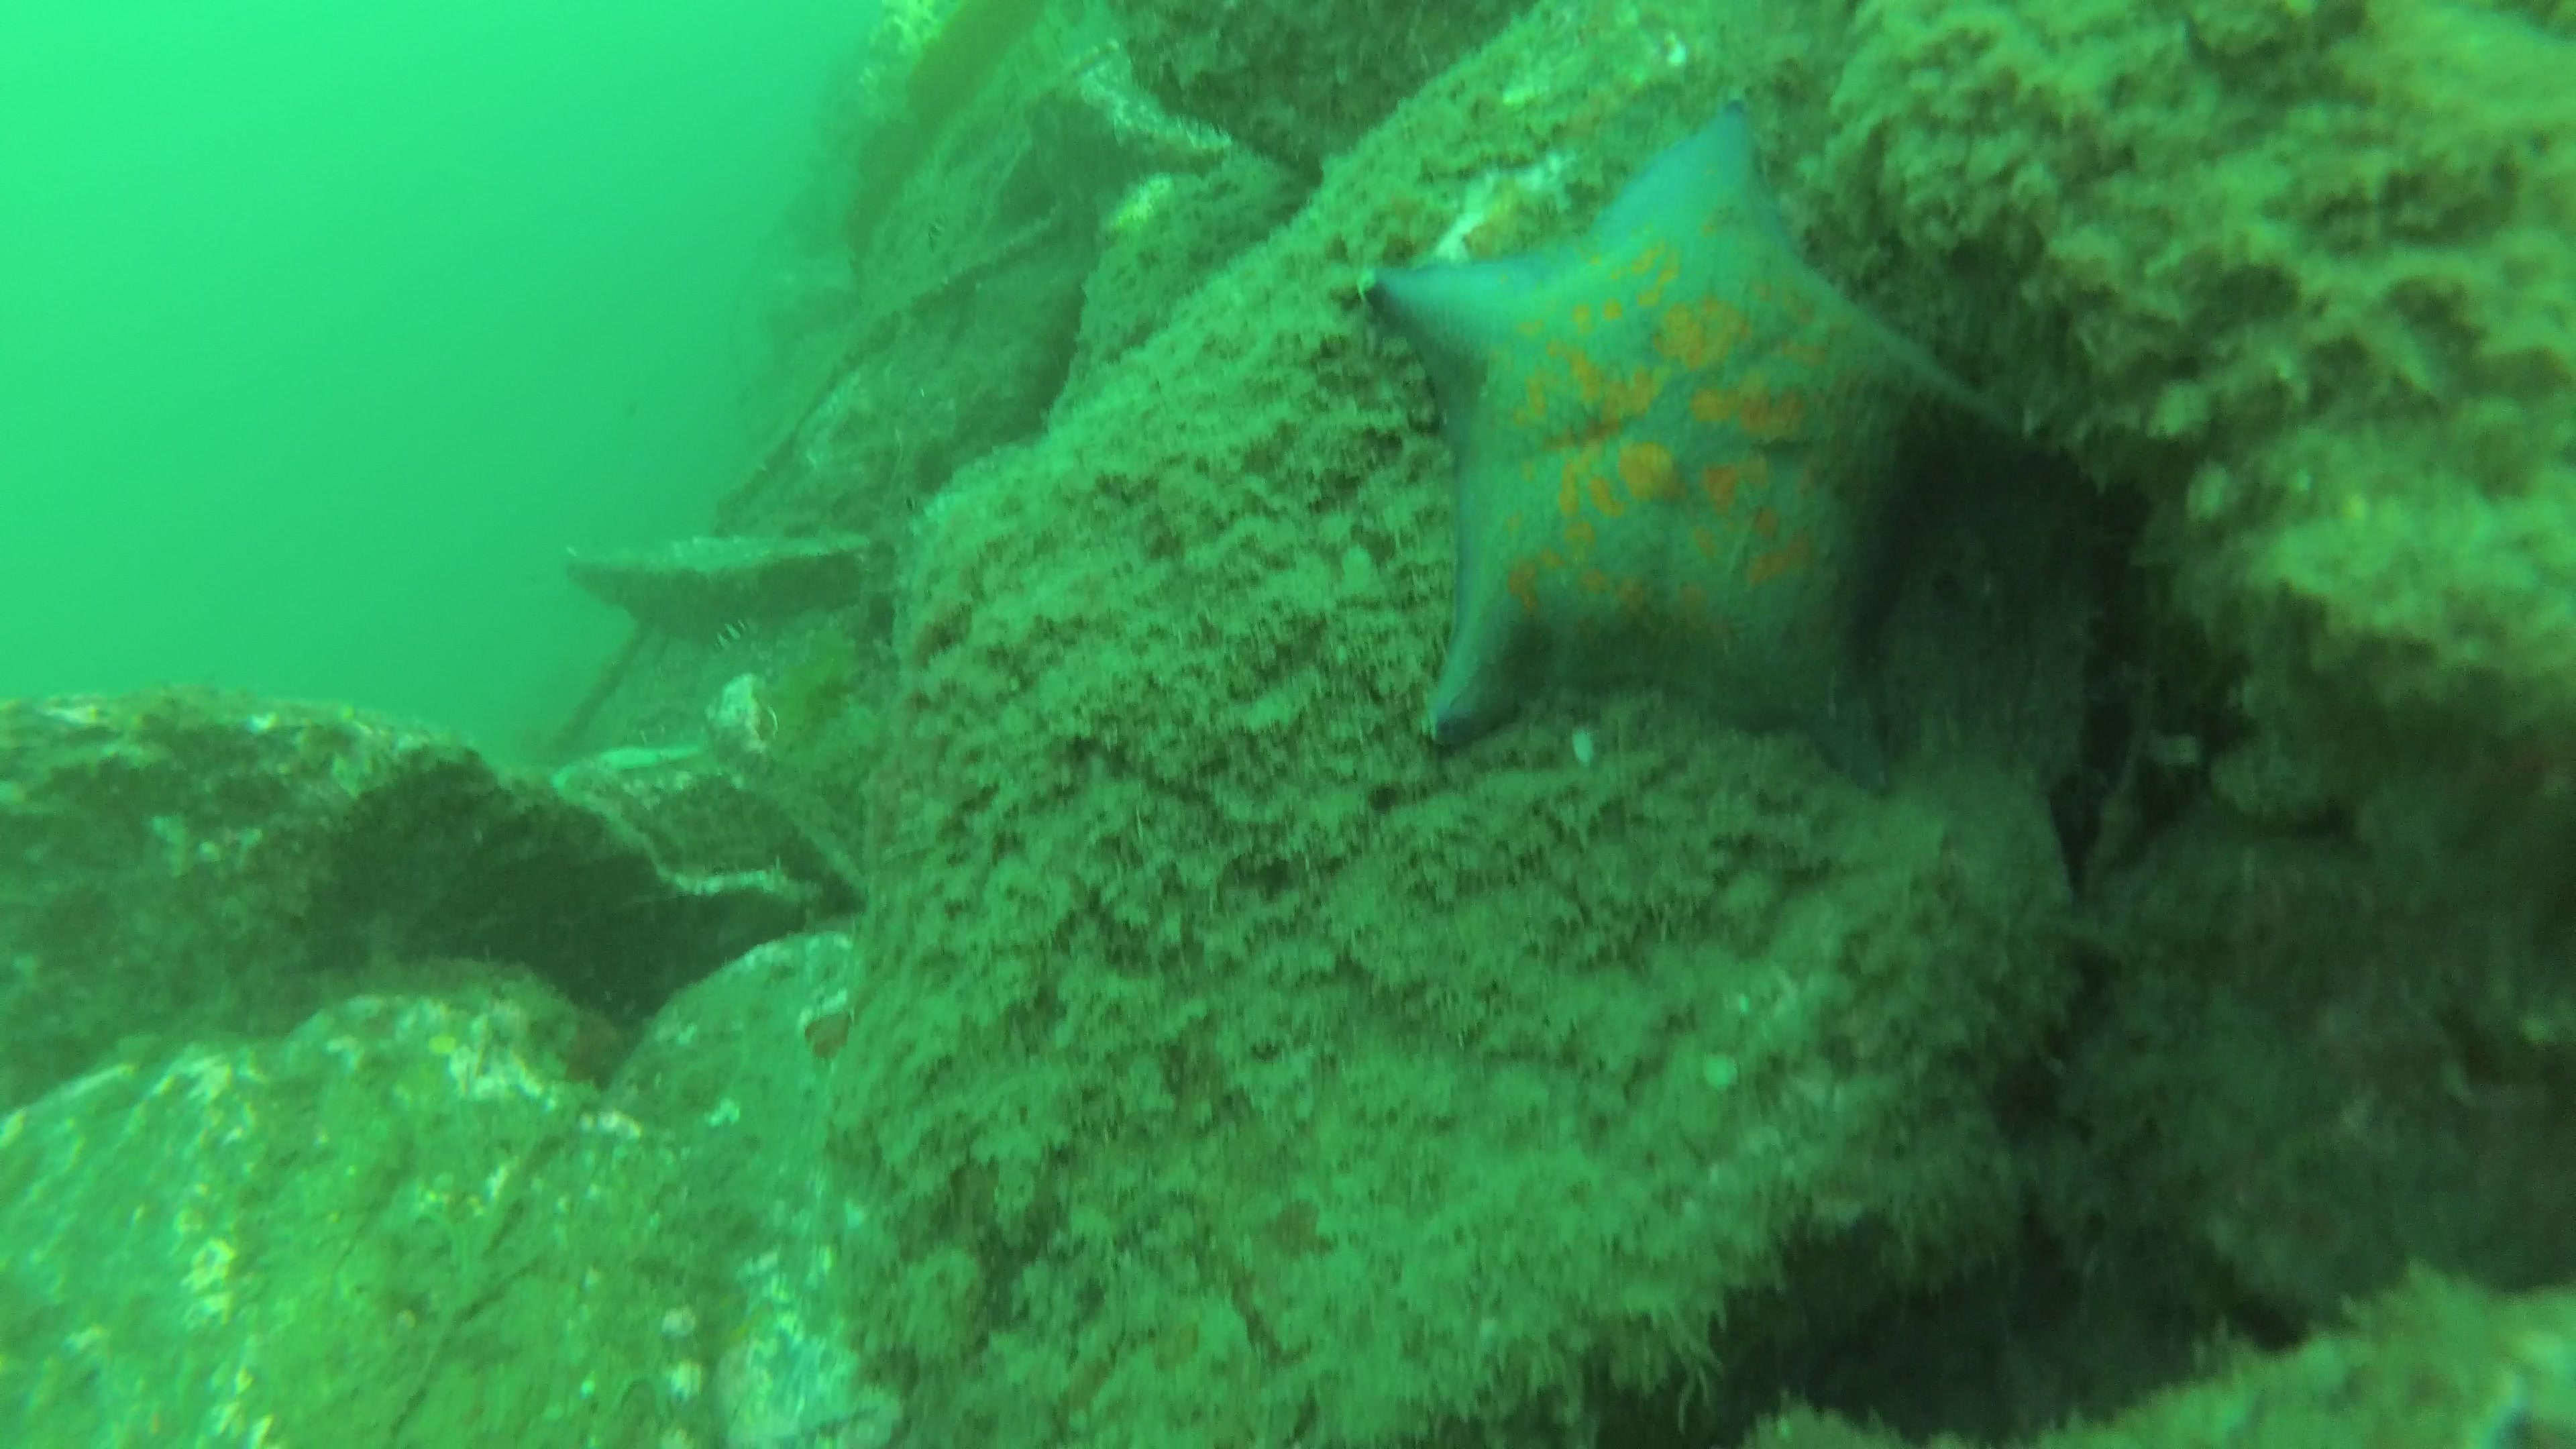starfish: (1361, 119, 1964, 796)
